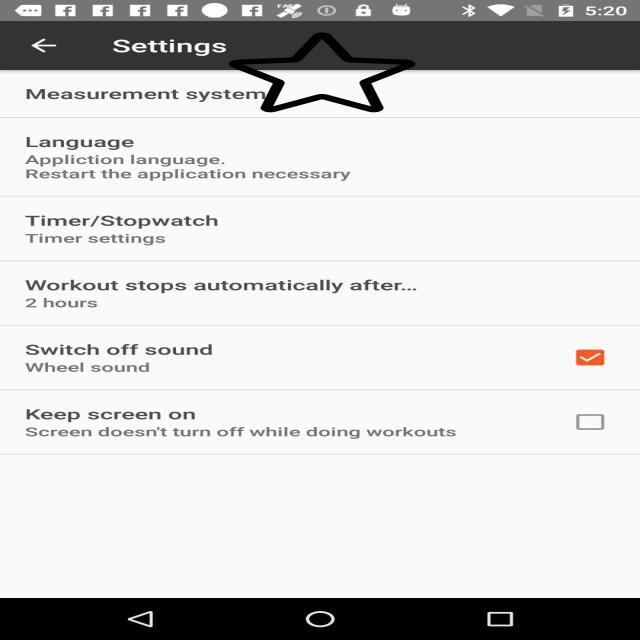forced continuity: (229, 31, 415, 114)
